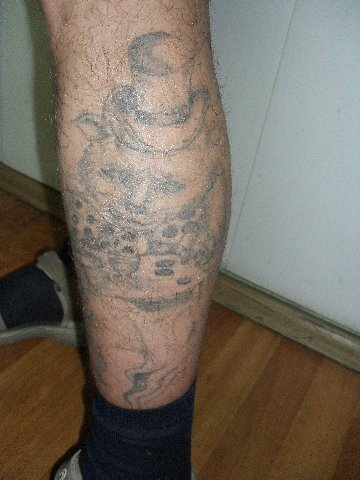tatu8_kot: (59, 26, 231, 340)
